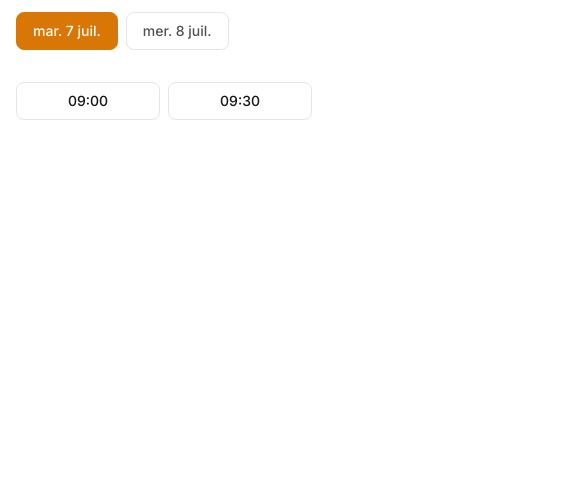
Test: BookingSection › email invalide → erreur de validation, aucun POST
Click the button "09:00".
click(88, 101)  # box x1=16 y1=82 x2=160 y2=120
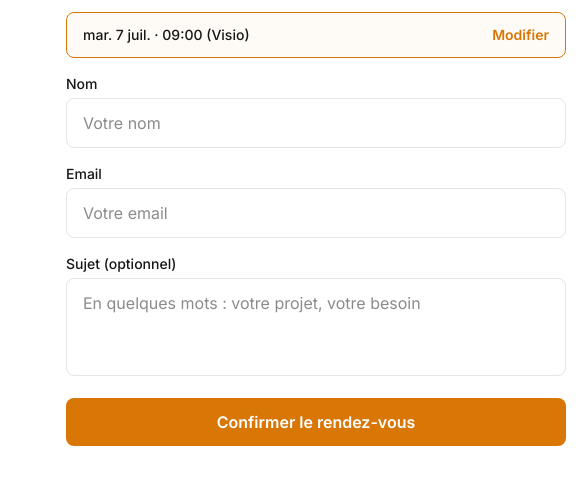
Type "Jean Dupont" into the field labelled "Nom".
click(316, 123); type("Jean Dupont")  # box x1=66 y1=98 x2=566 y2=148
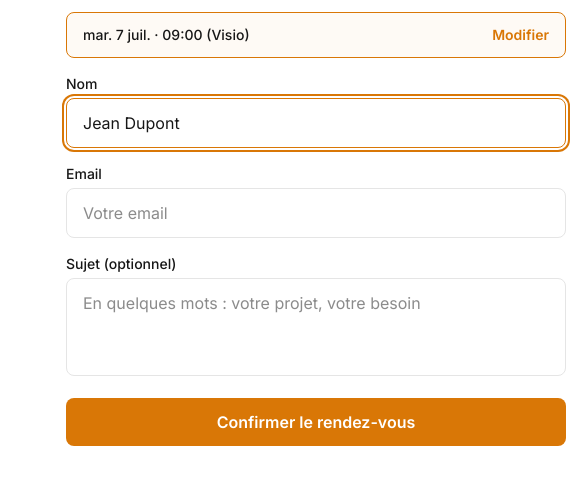
Type "pas-un-email" into the field labelled "Email".
click(316, 213); type("pas-un-email")  # box x1=66 y1=188 x2=566 y2=238
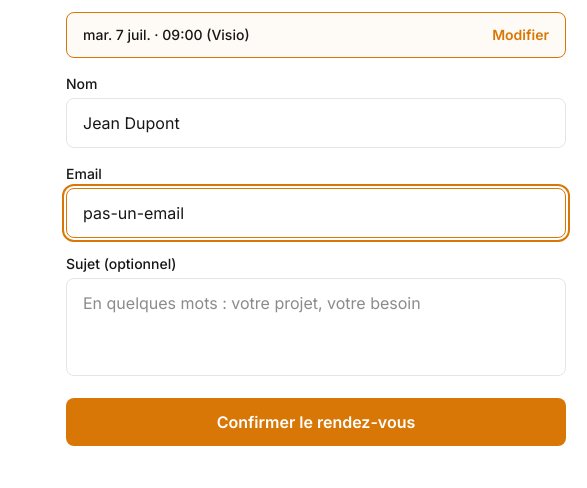
Click the button "Confirmer le rendez-vous".
click(316, 422)  # box x1=66 y1=398 x2=566 y2=446
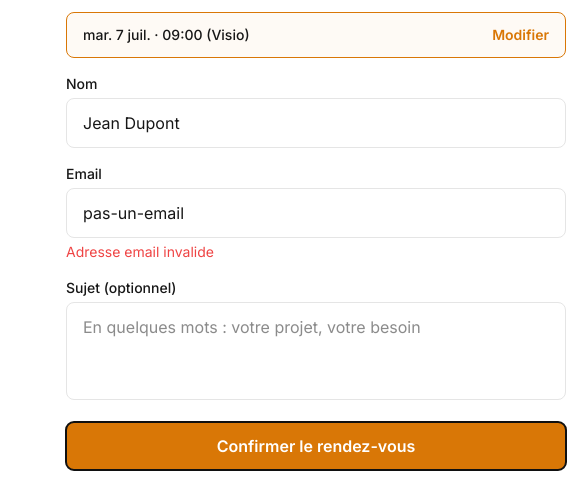
Now the text "Adresse email invalide" is shown, box x1=66 y1=243 x2=214 y2=260
